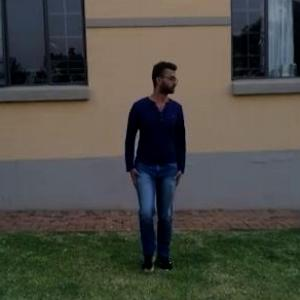follow: (121, 51, 193, 280)
